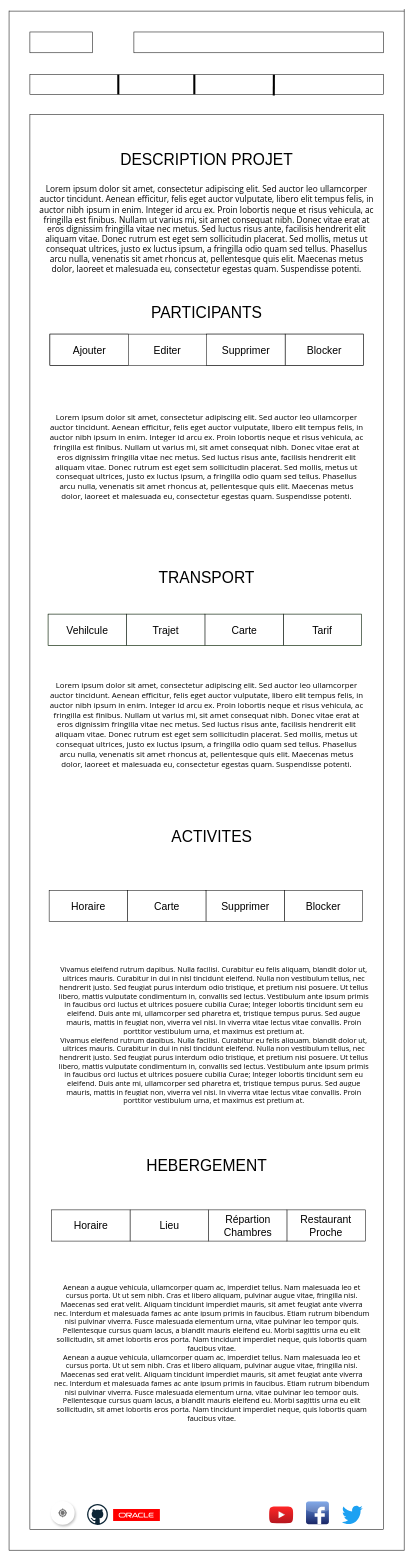
The diagram is 414 pixels wide and 1560 high, and some of its shapes have lost their labels. Each missing label, with the centre of its shape:
FR: DE: IT:: point 258,42
LOGO: point 60,42
Participant Transport Activités Hébérgement: point 206,84
